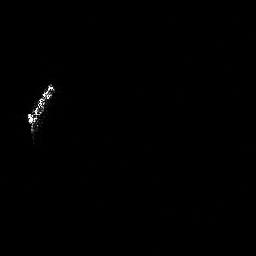ship: (24, 78, 60, 144)
